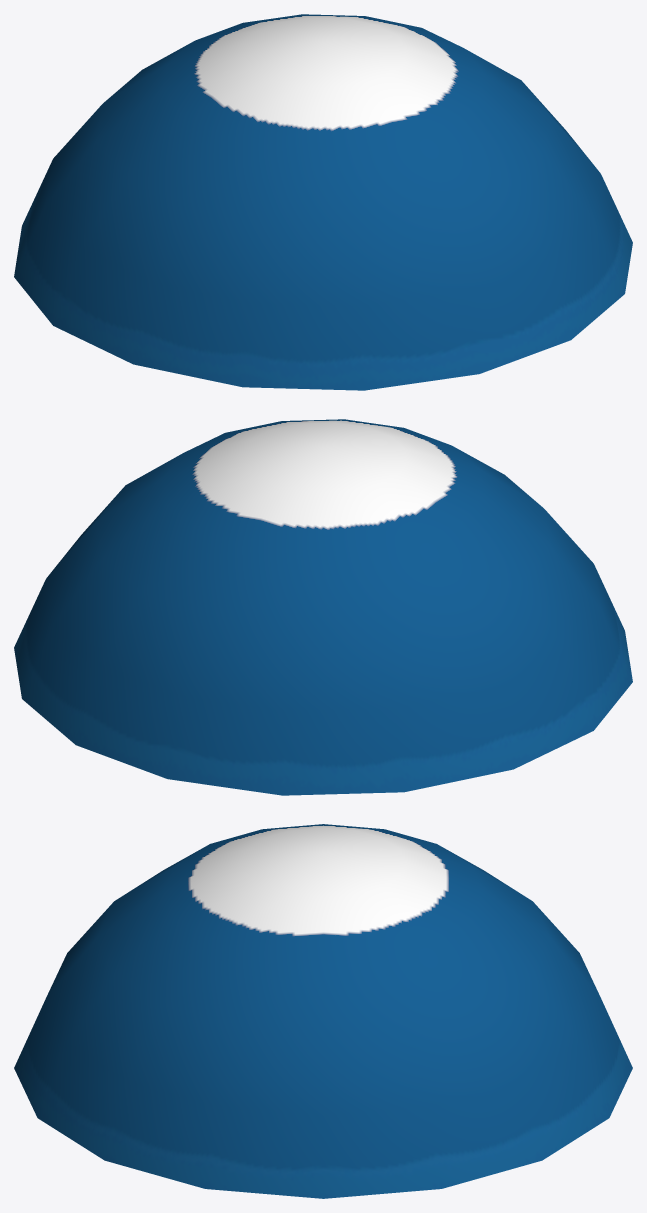
File: mesh_firewall_dome.fbx
3 views of the same model, one above another, from view 1: azimuth 30°, elevation 25°; view 2: azimuth 150°, elevation 25°; view 3: azimuth 270°, elevation 25° (orthographic).
Visible parts, largest first — view 1: mesh_firewall_dome; view 2: mesh_firewall_dome; view 3: mesh_firewall_dome.
Boxes of the visible parts, x1,y1,x2,y2 form: mesh_firewall_dome: [14, 14, 632, 390]; mesh_firewall_dome: [14, 419, 632, 795]; mesh_firewall_dome: [14, 824, 632, 1198].
Size of the model in its own units: 96.59 by 37.06 by 96.59.
